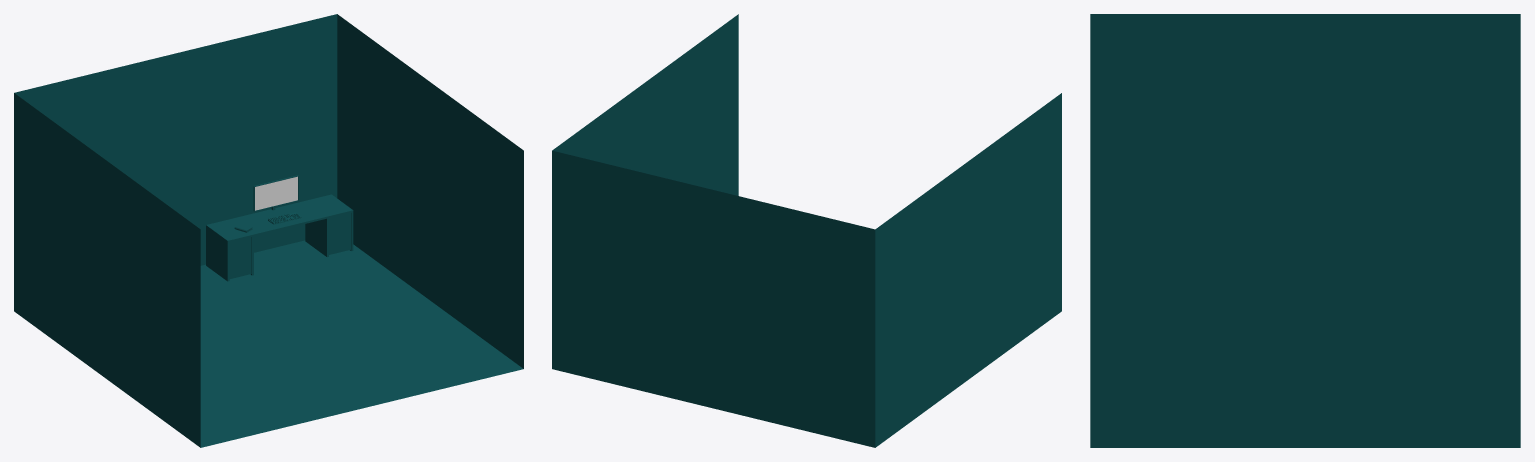
The model's file is EscrivaninhaV3.glb.
3 renders of one model, left to right at view 1: azimuth 30°, elevation 25°; view 2: azimuth 150°, elevation 25°; view 3: azimuth 270°, elevation 25°, orthographic. The views are drawn at different scales.
Parts seen in each view (by area): view 1: Room, Desk, DisplayH; view 2: Room; view 3: Room.
Part boxes in pixels (x1,y1,x2,y2): Room: (14,14,523,447); Desk: (206,194,353,281); DisplayH: (255,176,297,210); Room: (552,14,1061,447); Room: (1090,14,1520,447).
Bounding box in the file's own units: 17.23 × 11.14 × 17.23.
